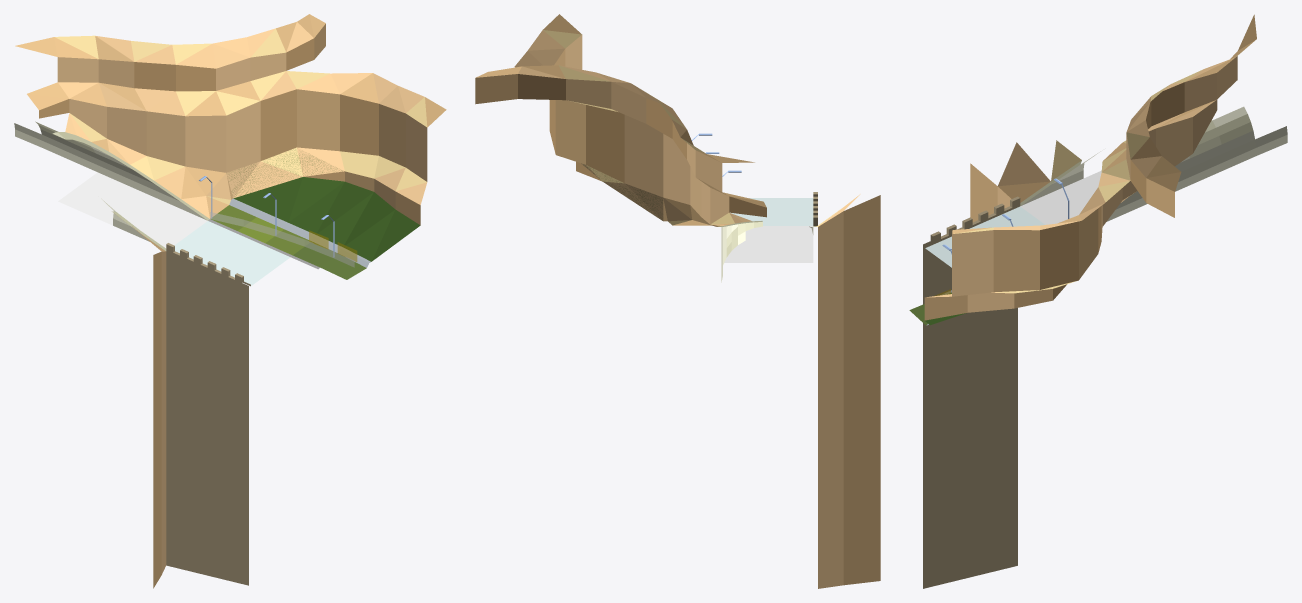
3 views of the same model, side by side, from view 1: azimuth 30°, elevation 25°; view 2: azimuth 150°, elevation 25°; view 3: azimuth 270°, elevation 25° (orthographic). The views are drawn at different scales.
Parts seen in each view (by area): view 1: O31CB6; view 2: O31CB6; view 3: O31CB6.
Part boxes in pixels (box(x1,y1,x2,y2)): O31CB6: box(14, 14, 446, 588); O31CB6: box(475, 14, 880, 588); O31CB6: box(909, 14, 1287, 588).
Size of the model in its own units: 88.28 by 127 by 82.75.
